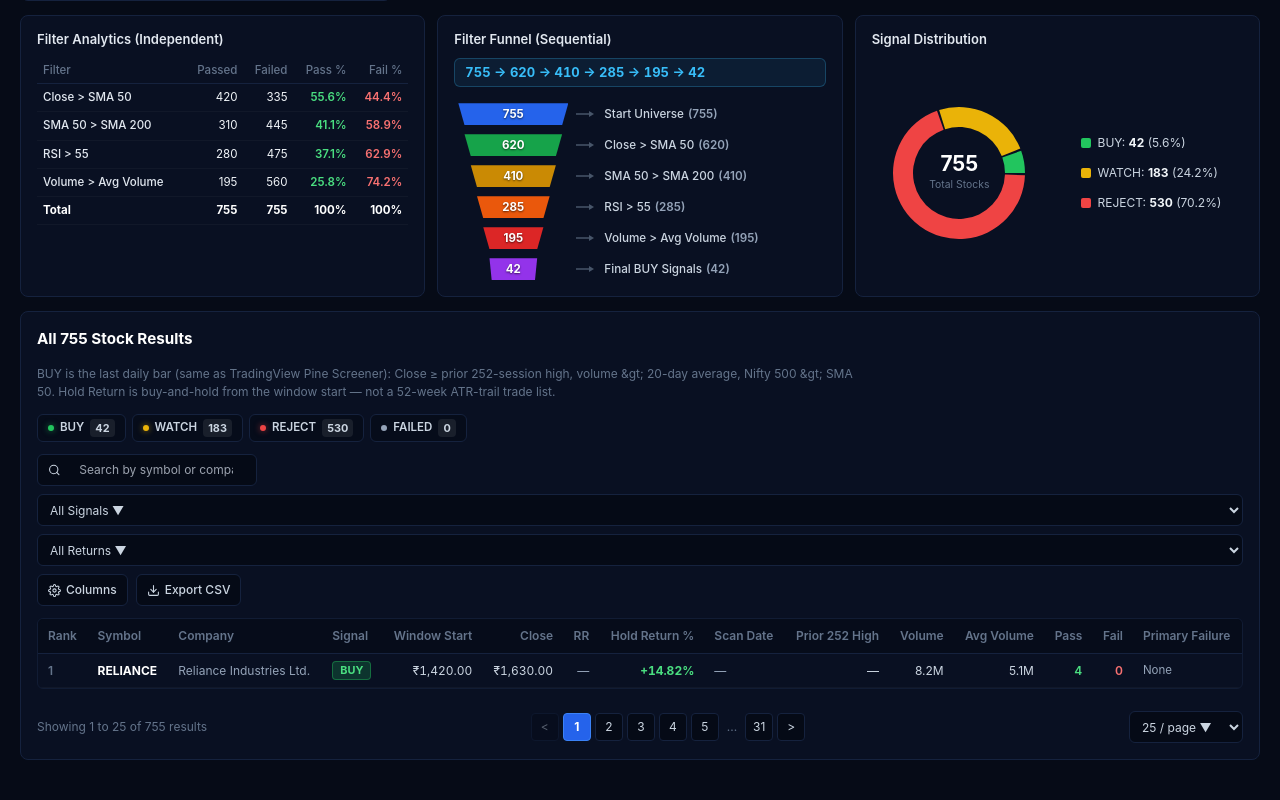
StrategyTesterPage › renders All Stock Results with Quick Access Signal pills and Left-aligned toolbar
(page scrolled)
Expected: the table with test id "table-strategy-results" is shown, [38,619,1242,688]
Expected: the button with test id "pill-filter-failed" is shown, [370,414,467,442]
# Clicking BUY quick pill toggles signal filter
Click the button with test id "pill-filter-buy".
click(81, 428)  # box [37,414,126,442]
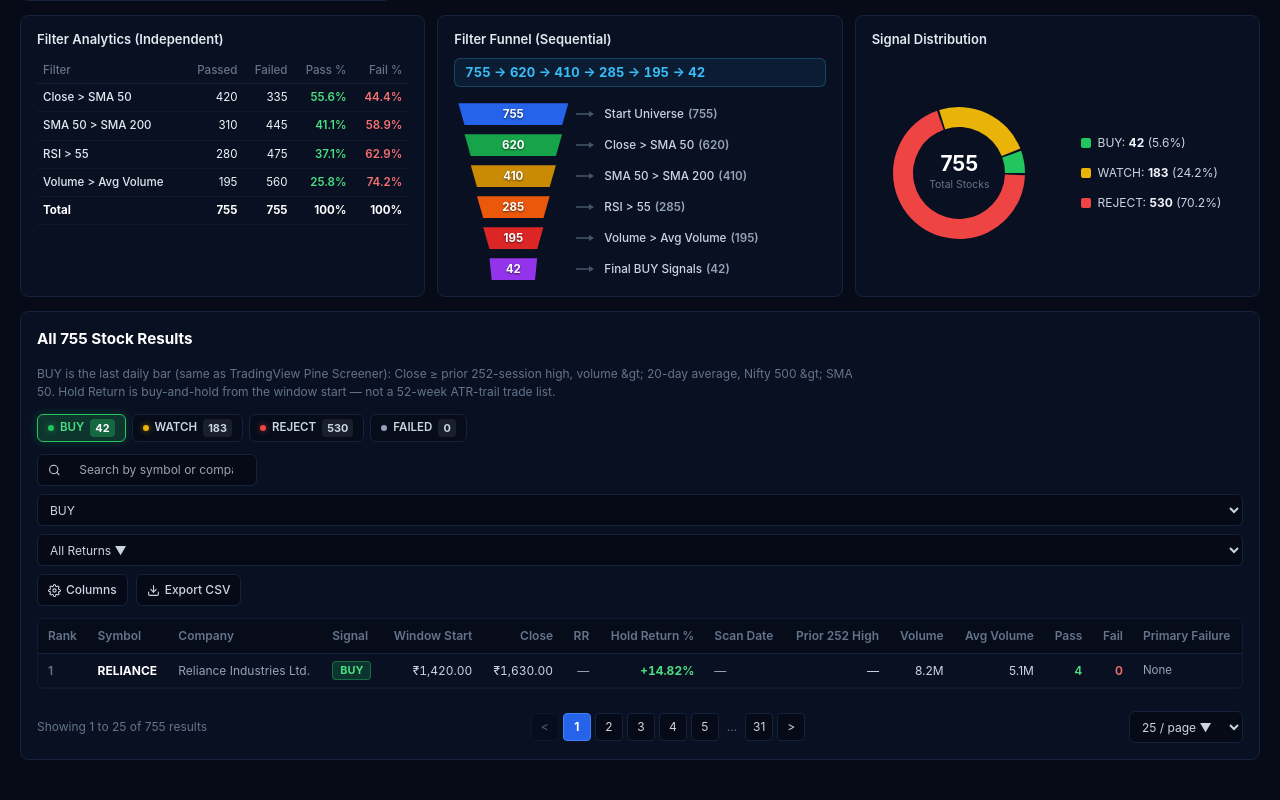
Expected: the dropdown with test id "select-signal-filter" shows "BUY", [37,494,1243,526]
